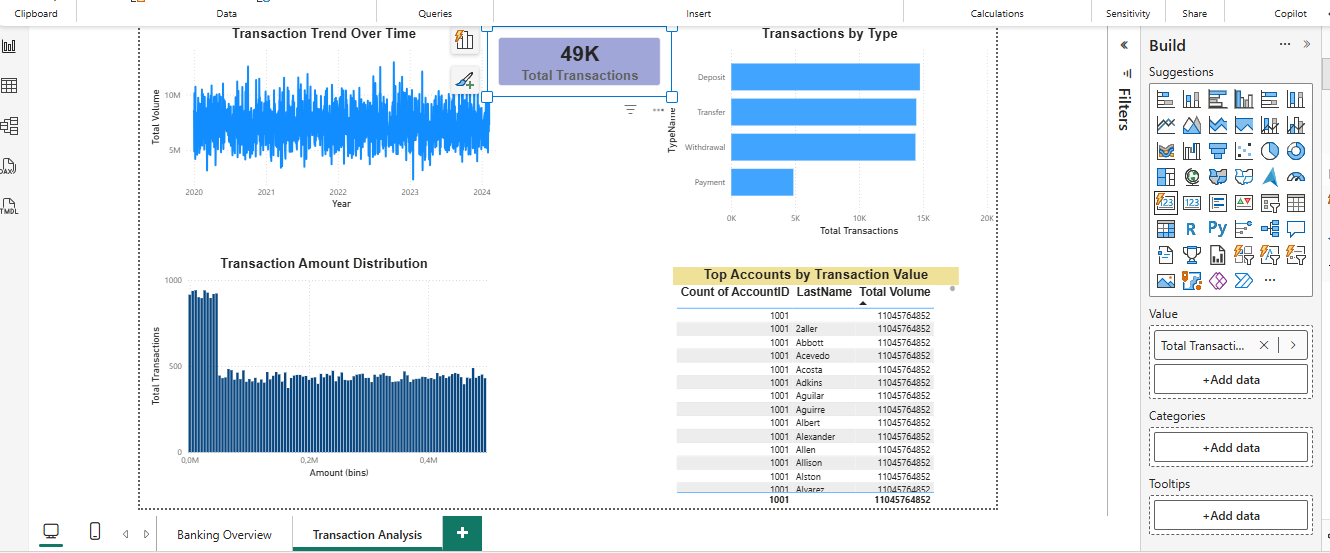

What the dashboard file says about the page in this screenshot:
{"tool":"powerbi","page":{"name":"Transaction Analysis","canvas":[1280,720],"ordinal":1},"visuals":[{"type":"lineChart","title":"Transaction Trend Over Time","fields":{"Category":["final_transactions_with_risk.TransactionDate.Variation.Date Hierarchy.Year","final_transactions_with_risk.TransactionDate.Variation.Date Hierarchy.Quarter","final_transactions_with_risk.TransactionDate.Variation.Date Hierarchy.Month","final_transactions_with_risk.TransactionDate.Variation.Date Hierarchy.Day"],"Y":["Measures (3).Total Volume"]},"box":[10.7,0,529.2,278.9],"z":0},{"type":"clusteredColumnChart","title":"Transaction Amount Distribution","fields":{"Category":["final_transactions_with_risk.Amount (bins)"],"Y":["Measures (3).Total Transactions"]},"box":[10.7,343.2,529.2,336.1],"z":1},{"type":"cardVisual","fields":{"Data":["Measures (3).Total Transactions"]},"box":[518.3,0,276.3,106.1],"z":2},{"type":"barChart","title":"Transactions by Type","fields":{"Category":["transaction_types.TypeName"],"Y":["Measures (3).Total Transactions"]},"box":[781.2,0,498.8,318.2],"z":3},{"type":"tableEx","title":"Top Accounts by Transaction Value","fields":{"Values":["CountNonNull(accounts.AccountID)","cleaned_customers.LastName","Measures (3).Total Volume"]},"box":[795.5,359.3,427.3,361.1],"z":4}]}

Visuals, with their boxes on the page's 1280x720 design canvas (x1, y1, x2, y2). These are canvas units, not pixel positions in the 1330x553 screenshot, which may show the page scaled, cropped or inside an application window:
"Transaction Trend Over Time" lineChart: 11, 0, 540, 279
"Transaction Amount Distribution" clusteredColumnChart: 11, 343, 540, 679
cardVisual - Measures (3).Total Transactions: 518, 0, 795, 106
"Transactions by Type" barChart: 781, 0, 1280, 318
"Top Accounts by Transaction Value" tableEx: 796, 359, 1223, 720
